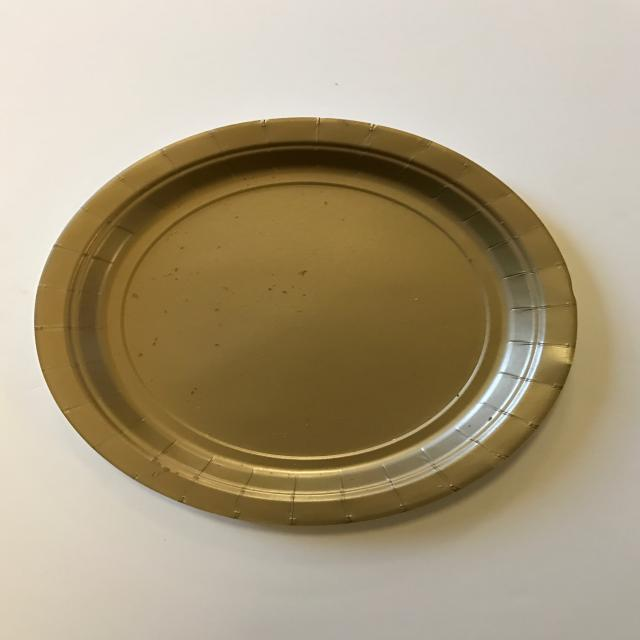paper: (16, 28, 637, 623), (630, 6, 637, 12)
